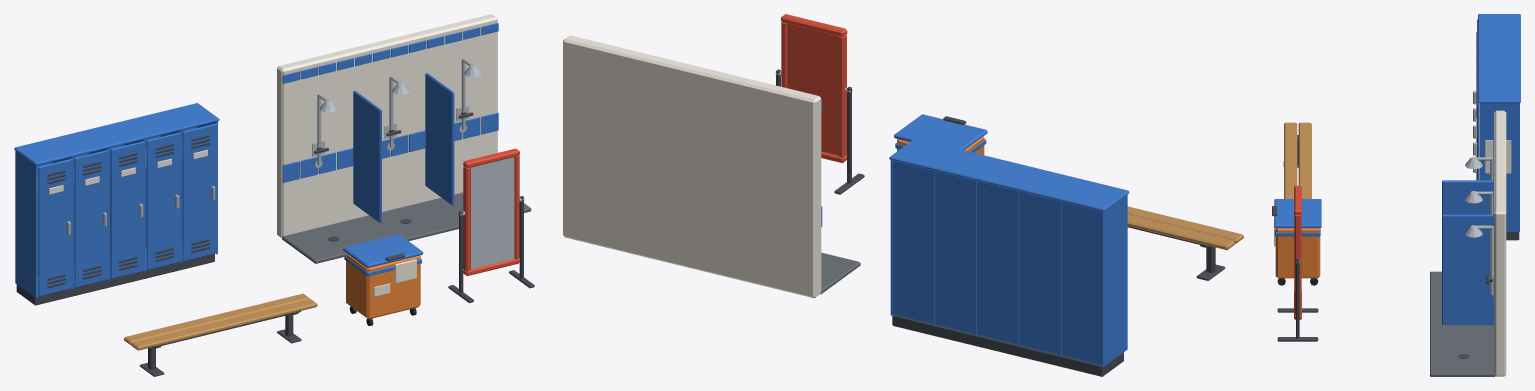
The model's file is school-locker-room-set.glb.
The picture shows the model from 3 angles, left to right: view 1: azimuth 30°, elevation 25°; view 2: azimuth 150°, elevation 25°; view 3: azimuth 270°, elevation 25°; orthographic projection. The views are drawn at different scales.
Parts seen in each view (by area): view 1: Shower_WallBody, Shower_Tray, LockerDoor_5, LockerDoor_3, LockerDoor_4, Mirror_Glass, Locker_Top, LockerDoor_1, LockerDoor_2, Bench, Shower_Partition_2, Shower_Partition_1 (+9 smaller); view 2: Shower_WallBody, Locker_Back, Locker_Top, Mirror_Back, Locker_Side_0, Bench, Locker_Plinth, TowelBin_Lid, Mirror_Frame_Left, Shower_Tray, Mirror_Frame_Top; view 3: Shower_Partition_2, Shower_Tray, Locker_Top, Shower_WallBody, Locker_Side_5, Bench, TowelBin_Body, Shower_Partition_1, TowelBin_Lid, Mirror_Frame_Right, Locker_Poster_Blank, Mirror_Post_2 (+3 smaller).
Part boxes in pixels (bbox=[...]): Shower_WallBody: bbox=[277, 14, 497, 237]; Shower_Tray: bbox=[282, 192, 531, 263]; LockerDoor_5: bbox=[182, 123, 217, 260]; LockerDoor_3: bbox=[110, 141, 145, 278]; LockerDoor_4: bbox=[146, 132, 181, 269]; Mirror_Glass: bbox=[471, 157, 514, 269]; Locker_Top: bbox=[14, 103, 219, 165]; LockerDoor_1: bbox=[38, 158, 72, 296]; LockerDoor_2: bbox=[74, 150, 108, 287]; Bench: bbox=[124, 293, 317, 376]; Shower_Partition_2: bbox=[425, 73, 454, 205]; Shower_Partition_1: bbox=[353, 90, 381, 223]; Shower_WallBody: bbox=[563, 35, 821, 298]; Locker_Back: bbox=[892, 160, 1101, 364]; Locker_Top: bbox=[889, 138, 1129, 211]; Mirror_Back: bbox=[787, 24, 838, 155]; Locker_Side_0: bbox=[1101, 194, 1127, 367]; Bench: bbox=[1127, 206, 1243, 280]; Locker_Plinth: bbox=[892, 314, 1123, 376]; TowelBin_Lid: bbox=[894, 114, 987, 150]; Mirror_Frame_Left: bbox=[838, 35, 846, 157]; Shower_Tray: bbox=[820, 252, 860, 294]; Mirror_Frame_Top: bbox=[781, 14, 847, 36]; Shower_Partition_2: bbox=[1442, 214, 1493, 324]; Shower_Tray: bbox=[1430, 271, 1495, 376]; Locker_Top: bbox=[1478, 14, 1520, 103]; Shower_WallBody: bbox=[1494, 110, 1506, 376]; Locker_Side_5: bbox=[1479, 103, 1519, 231]; Bench: bbox=[1283, 122, 1311, 198]; TowelBin_Body: bbox=[1275, 228, 1320, 278]; Shower_Partition_1: bbox=[1442, 180, 1493, 214]; TowelBin_Lid: bbox=[1274, 199, 1321, 228]; Mirror_Frame_Right: bbox=[1294, 214, 1301, 315]; Locker_Poster_Blank: bbox=[1485, 140, 1511, 173]; Mirror_Post_2: bbox=[1296, 258, 1299, 338].
Bounding box in the file's own units: 26.1 × 9 × 12.3.
